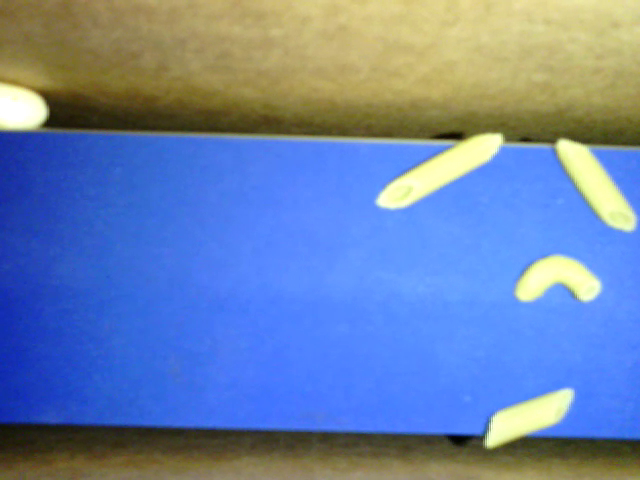elbow: (514, 253, 602, 302)
penne: (377, 132, 503, 211), (553, 137, 637, 232), (483, 387, 575, 448)
